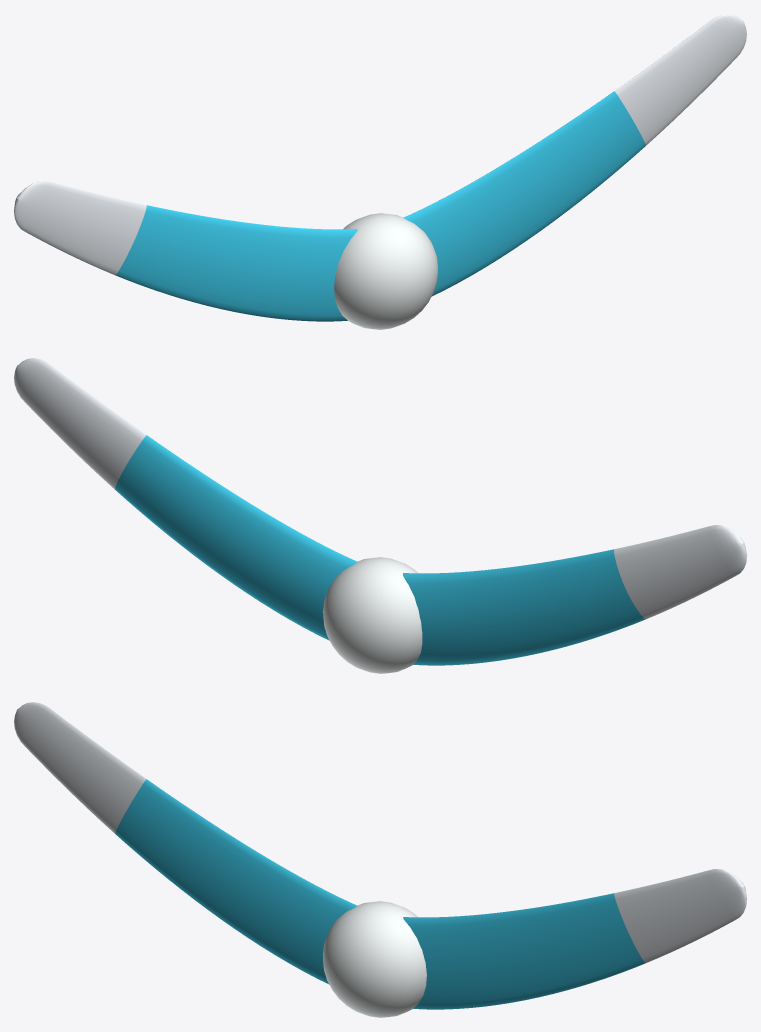
File: Boomerang_FrozenShard.obj
The picture shows the model from 3 angles, top to bottom: view 1: azimuth 30°, elevation 25°; view 2: azimuth 150°, elevation 25°; view 3: azimuth 330°, elevation 25°; orthographic projection.
Visible parts, largest first — view 1: Boomerang_FrozenShard; view 2: Boomerang_FrozenShard; view 3: Boomerang_FrozenShard.
Boxes of the visible parts, bbox=[...] form: Boomerang_FrozenShard: bbox=[14, 14, 746, 329]; Boomerang_FrozenShard: bbox=[14, 358, 746, 673]; Boomerang_FrozenShard: bbox=[14, 702, 746, 1017].
Size of the model in its own units: 1.97 by 0.5843 by 0.2484.
